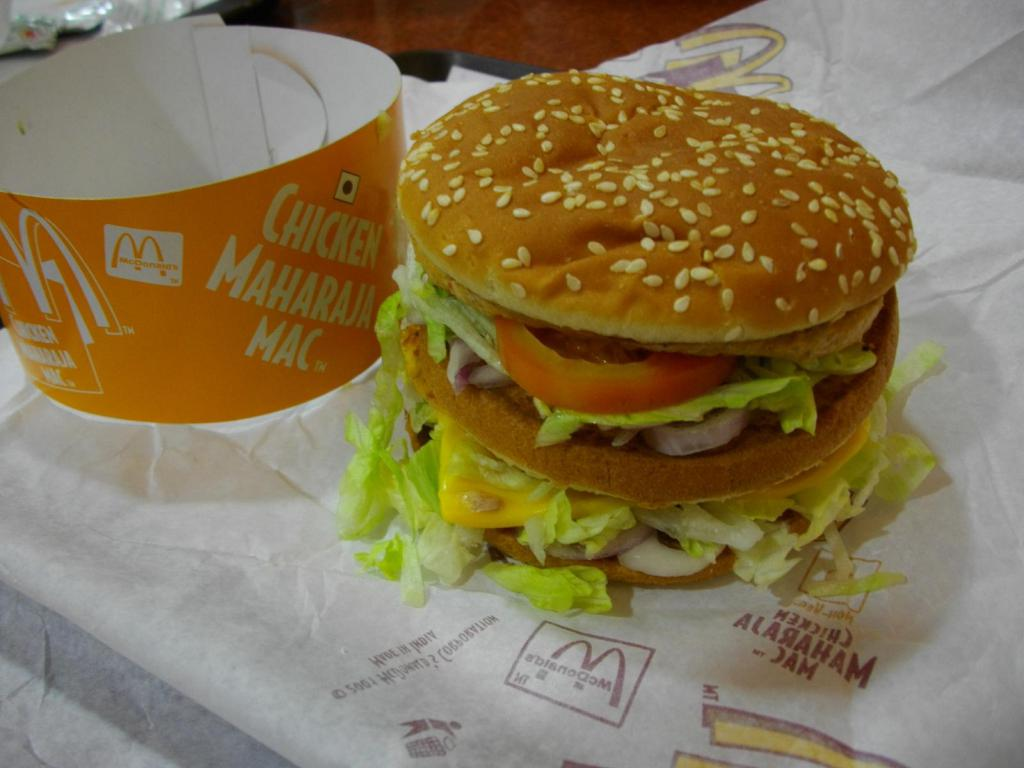Hamburger: (331, 71, 940, 620)
